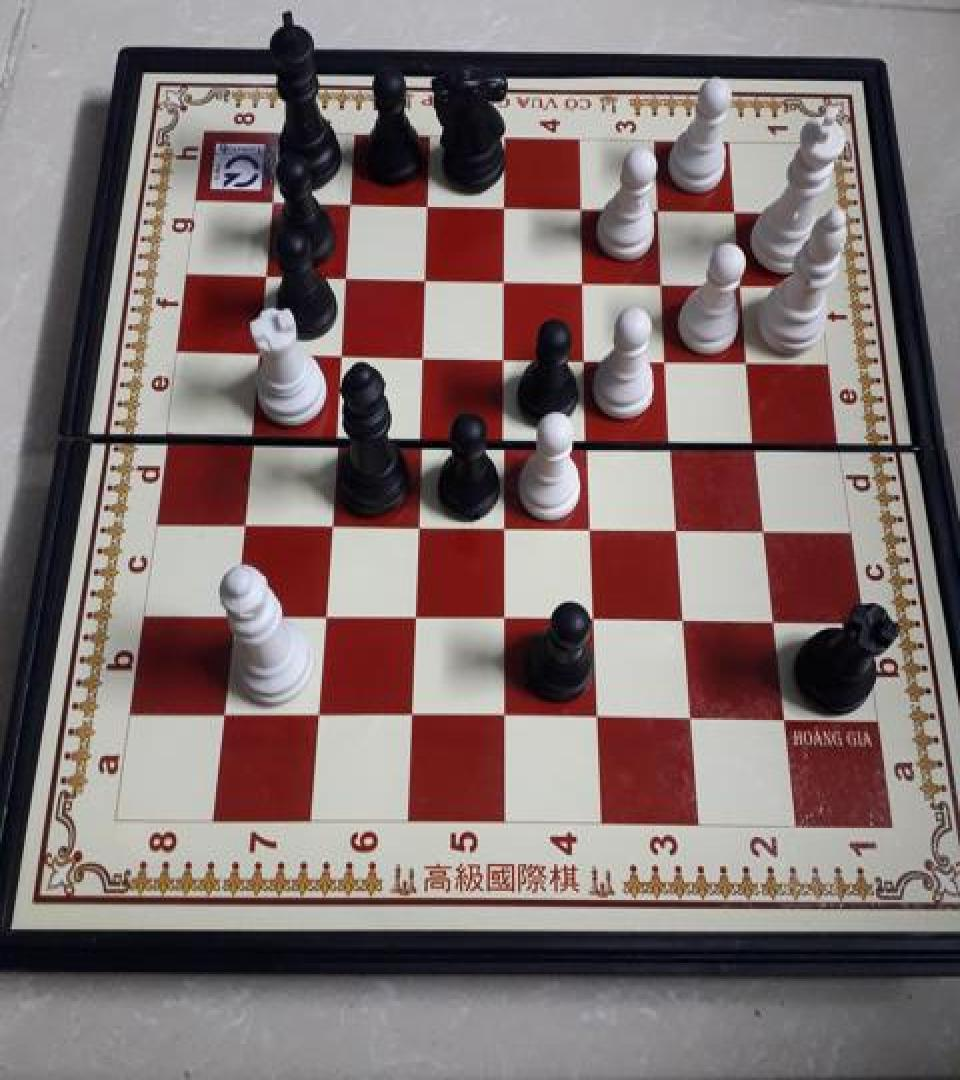xcorner: (209, 697, 241, 734), (303, 698, 335, 735), (397, 700, 429, 736), (490, 701, 522, 737), (584, 702, 616, 738), (677, 703, 709, 739), (770, 704, 802, 740), (219, 598, 251, 634), (310, 601, 342, 637), (401, 602, 433, 638), (491, 603, 523, 639), (582, 604, 614, 640), (672, 605, 704, 641), (762, 606, 794, 642), (228, 506, 260, 542), (316, 508, 348, 544), (405, 508, 437, 544), (492, 511, 524, 547), (580, 512, 612, 548), (668, 513, 700, 549), (755, 514, 787, 550), (237, 418, 269, 454), (323, 421, 355, 457), (408, 422, 440, 458), (493, 423, 525, 459), (578, 424, 610, 460), (663, 426, 695, 462), (748, 428, 780, 464), (245, 336, 277, 372), (328, 338, 360, 374), (411, 340, 443, 376), (494, 341, 526, 377), (577, 343, 609, 379), (659, 344, 691, 380), (742, 346, 774, 382), (253, 259, 285, 295), (334, 261, 366, 297), (415, 262, 447, 298), (495, 263, 527, 299), (575, 266, 607, 302), (736, 268, 768, 304), (339, 188, 371, 224), (418, 189, 450, 225), (496, 190, 528, 226), (652, 194, 684, 230), (656, 267, 688, 302), (260, 186, 292, 221), (574, 193, 606, 228), (730, 195, 762, 230)
